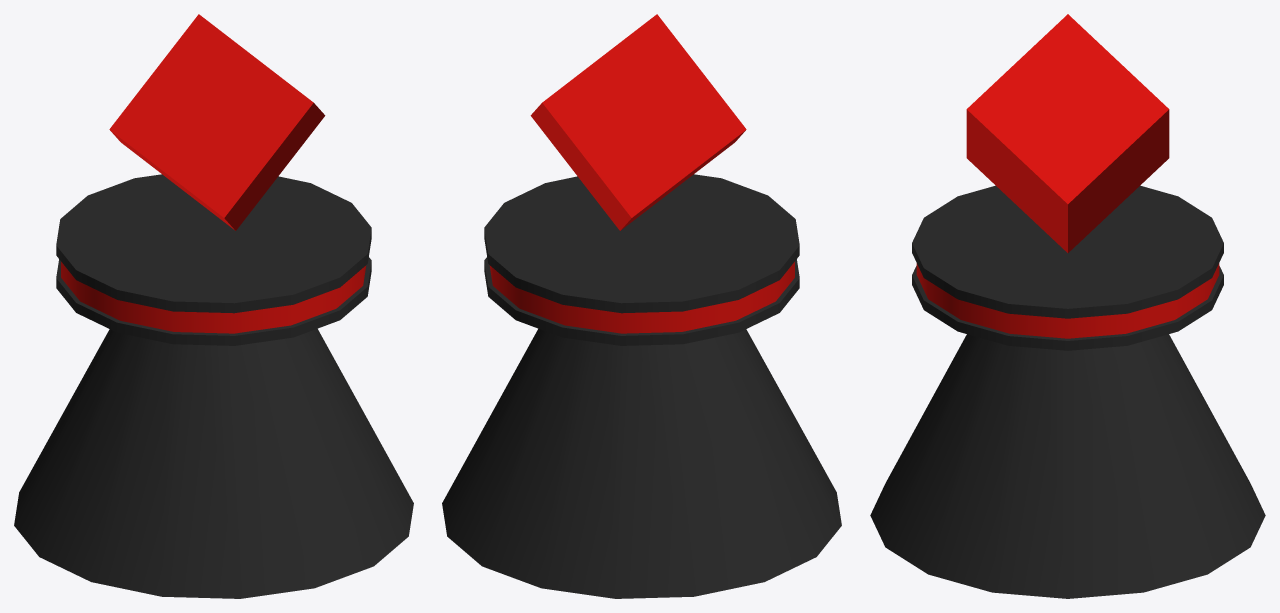
Rendered from playerPieceRed.fbx.
3 views of the same model, side by side, from view 1: azimuth 30°, elevation 25°; view 2: azimuth 150°, elevation 25°; view 3: azimuth 270°, elevation 25° (orthographic). The views are drawn at different scales.
Parts seen in each view (by area): view 1: playerPieceRed; view 2: playerPieceRed; view 3: playerPieceRed.
Part boxes in pixels (<box>): playerPieceRed: <box>14,14,413,598</box>; playerPieceRed: <box>442,14,841,598</box>; playerPieceRed: <box>870,14,1265,598</box>.
Bounding box in the file's own units: 137 × 189 × 137.
